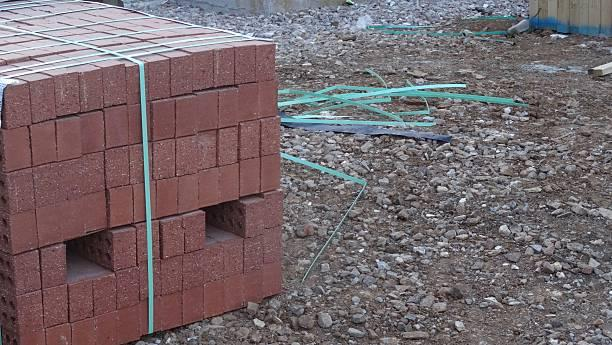Bricks: (12, 247, 43, 294), (33, 162, 64, 207), (29, 78, 58, 124), (2, 82, 31, 127), (66, 279, 95, 324), (36, 203, 66, 246), (9, 169, 36, 216), (4, 126, 32, 171), (105, 186, 133, 231), (42, 284, 70, 328), (16, 292, 45, 334), (30, 121, 57, 166), (39, 244, 66, 289), (11, 58, 77, 76), (37, 52, 101, 70), (56, 72, 82, 116), (103, 64, 129, 108), (132, 39, 192, 58), (132, 181, 159, 223), (56, 116, 82, 159), (13, 211, 39, 254), (91, 48, 149, 67), (45, 14, 95, 36), (106, 145, 131, 189), (79, 112, 105, 154), (136, 222, 162, 264), (61, 156, 85, 201), (114, 227, 138, 272), (104, 106, 129, 149), (131, 142, 157, 183), (194, 91, 219, 133), (159, 255, 184, 297), (0, 62, 52, 82), (128, 103, 152, 146), (150, 99, 174, 142), (93, 272, 117, 315), (156, 36, 213, 54), (63, 198, 88, 239), (161, 216, 186, 257), (127, 63, 151, 105), (9, 23, 71, 39), (172, 55, 195, 98), (117, 266, 140, 309), (111, 45, 169, 62), (258, 116, 282, 157), (176, 173, 201, 212), (84, 150, 106, 194), (119, 20, 165, 41), (86, 190, 109, 232), (98, 24, 146, 44), (150, 60, 173, 101), (242, 267, 265, 308), (238, 83, 260, 125), (186, 248, 207, 292), (185, 212, 208, 252), (245, 199, 268, 239), (218, 126, 242, 164), (82, 69, 104, 110), (174, 96, 196, 137), (199, 129, 221, 170), (259, 152, 282, 191), (183, 287, 206, 326), (193, 50, 214, 92), (218, 85, 239, 127), (72, 49, 127, 65), (203, 279, 225, 319), (118, 304, 141, 342), (157, 139, 178, 180), (239, 158, 261, 197), (140, 260, 162, 299), (201, 166, 221, 208), (142, 294, 163, 334), (143, 17, 187, 36), (214, 49, 236, 87), (219, 162, 241, 200), (178, 135, 198, 176), (225, 238, 245, 279), (1, 23, 40, 44), (95, 310, 119, 344), (158, 178, 178, 218), (188, 32, 235, 49), (162, 292, 183, 330), (61, 11, 114, 26), (73, 30, 122, 46), (1, 41, 53, 56), (8, 4, 62, 18), (244, 236, 265, 272), (264, 259, 283, 298), (86, 6, 132, 22), (209, 31, 258, 46), (47, 34, 96, 49), (235, 47, 256, 82), (208, 241, 225, 284), (225, 274, 244, 312), (27, 38, 75, 53), (107, 5, 154, 20), (257, 45, 277, 80), (241, 124, 262, 156), (2, 9, 41, 26), (259, 79, 276, 118), (265, 226, 282, 265), (69, 320, 95, 344), (267, 192, 283, 228), (47, 323, 72, 344), (38, 2, 81, 14), (171, 19, 209, 32), (0, 48, 31, 62), (17, 329, 45, 344), (1, 74, 27, 88), (68, 2, 107, 11), (243, 36, 275, 45), (240, 193, 268, 202), (0, 34, 14, 43), (0, 57, 11, 64)
